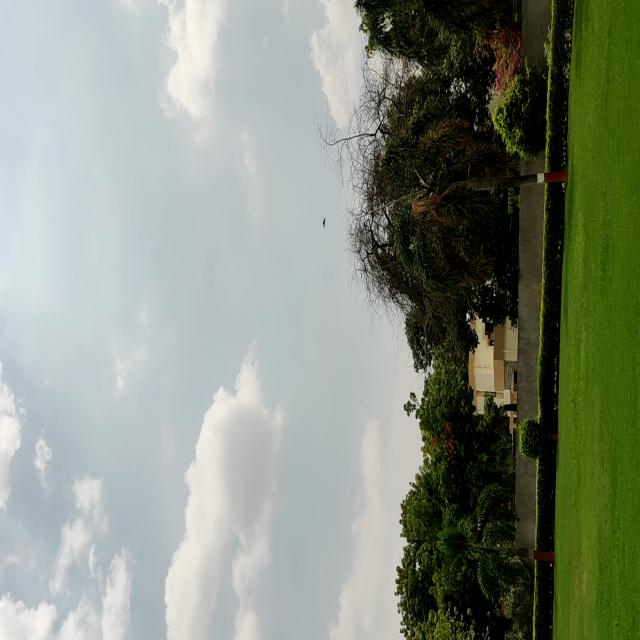drone: (318, 215, 329, 231)
